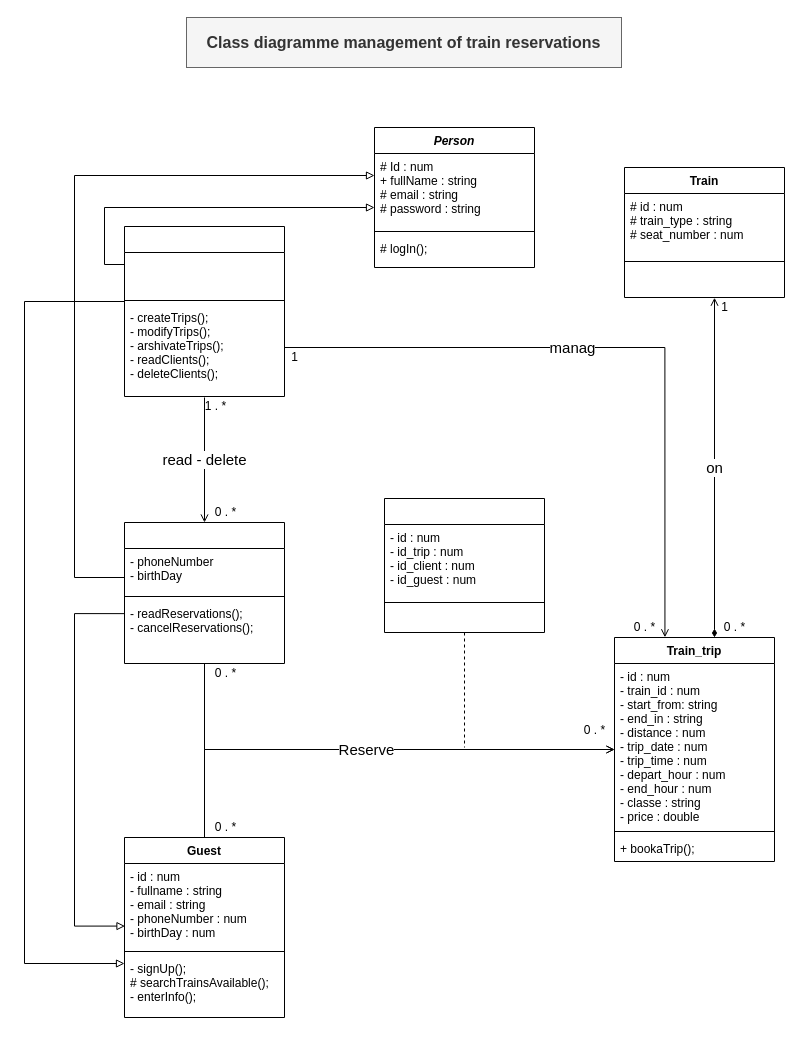
Image size: 802x1038. Some labels were removed from this diagram. The shapes that lost their labels are listed below. From the top down, each one's box as (x1, y1, x2, y2) in pixels, then its label:
(124, 226, 284, 396): Admin
(384, 498, 544, 632): Reservation_ticket
(124, 522, 284, 664): Client
